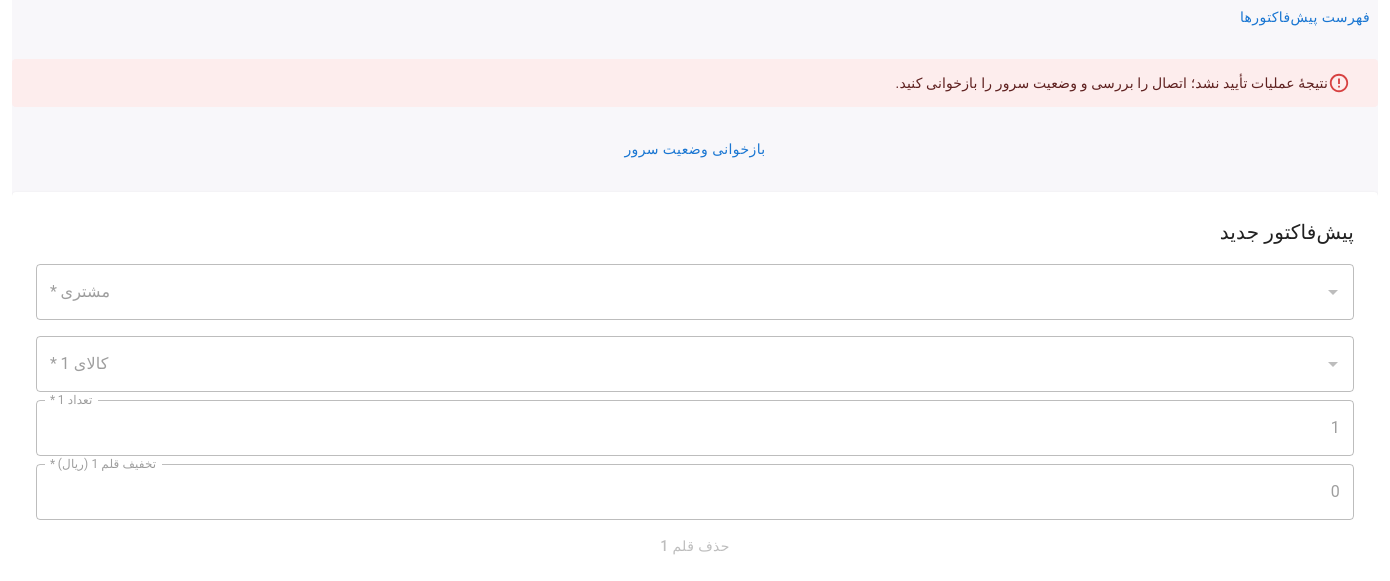
Scenario: Invoice draft workspace authoritative amounts and safe recovery › prevents editing after a read failure, supports retry, and never displays raw internal errors
expect the text "نتیجهٔ عملیات تأیید نشد" is shown: met, box [896, 75, 1328, 91]
Click the button "بازخوانی وضعیت سرور".
click(695, 150)  # box [12, 131, 1378, 168]
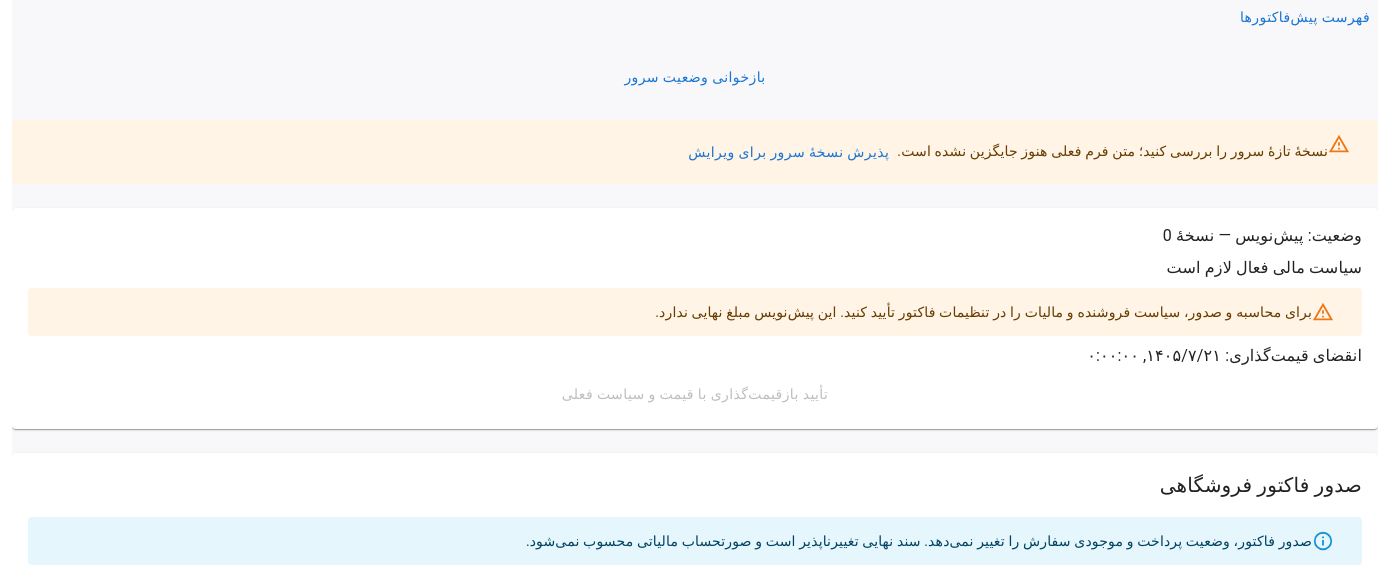
expect the text "وضعیت: پیش‌نویس — نسخهٔ 0" is shown: met, box [1163, 226, 1362, 245]
Click the button "پذیرش نسخهٔ سرور برای ویرایش".
click(789, 152)  # box [680, 134, 897, 170]
(page scrolled)
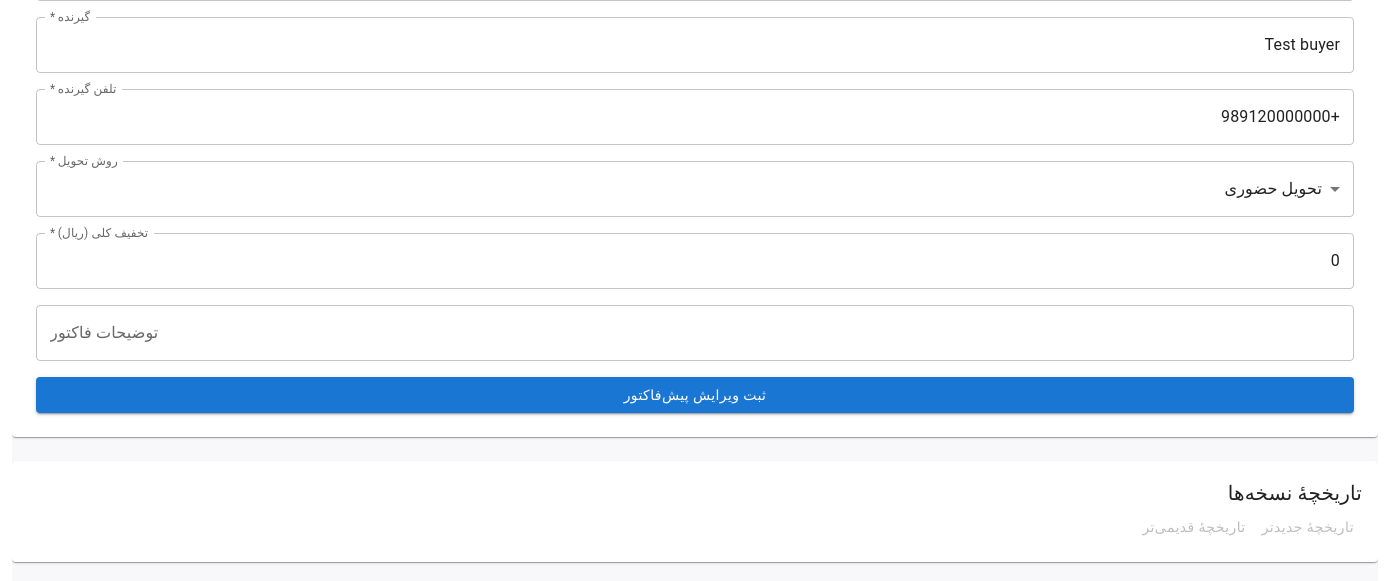
expect the button "ثبت ویرایش پیش‌فاکتور" is enabled: met, box [36, 377, 1354, 413]
